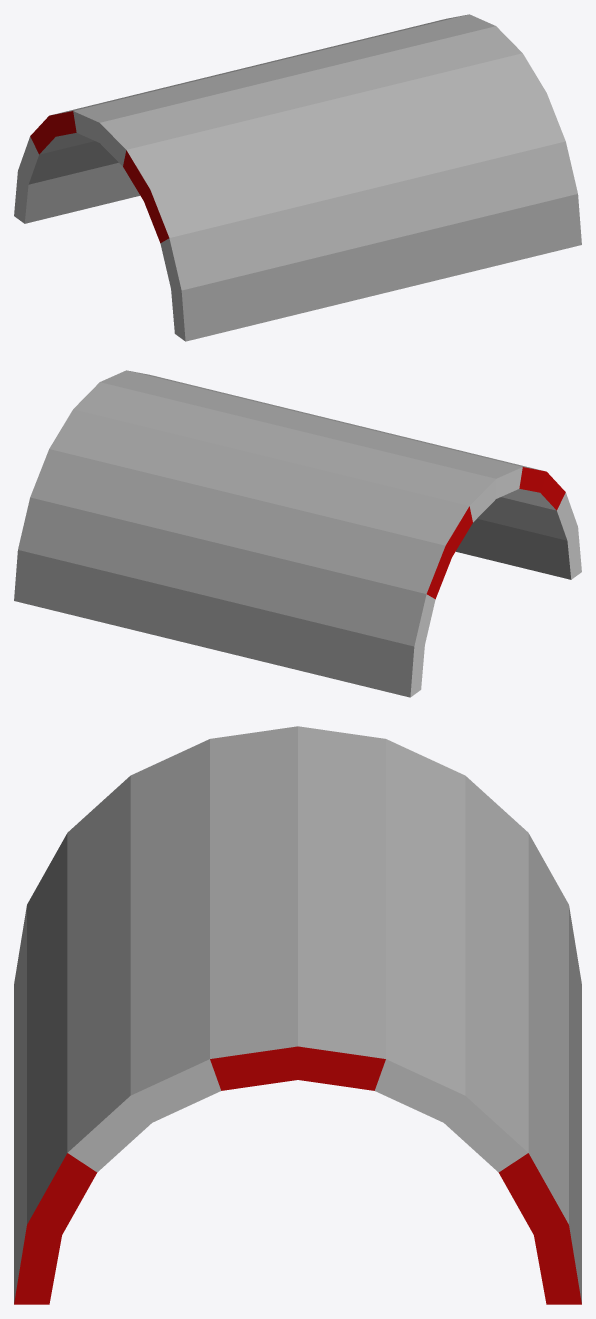
File: Road_tunel_01.fbx
3 renders of one model, top to bottom at view 1: azimuth 30°, elevation 25°; view 2: azimuth 150°, elevation 25°; view 3: azimuth 270°, elevation 25°, orthographic. The views are drawn at different scales.
Parts seen in each view (by area): view 1: Road_tunel_01; view 2: Road_tunel_01; view 3: Road_tunel_01.
Part boxes in pixels (x1,y1,x2,y2): Road_tunel_01: (14, 14, 581, 341); Road_tunel_01: (14, 370, 581, 697); Road_tunel_01: (14, 726, 581, 1304).
Bounding box in the file's own units: 300 × 113 × 225.
